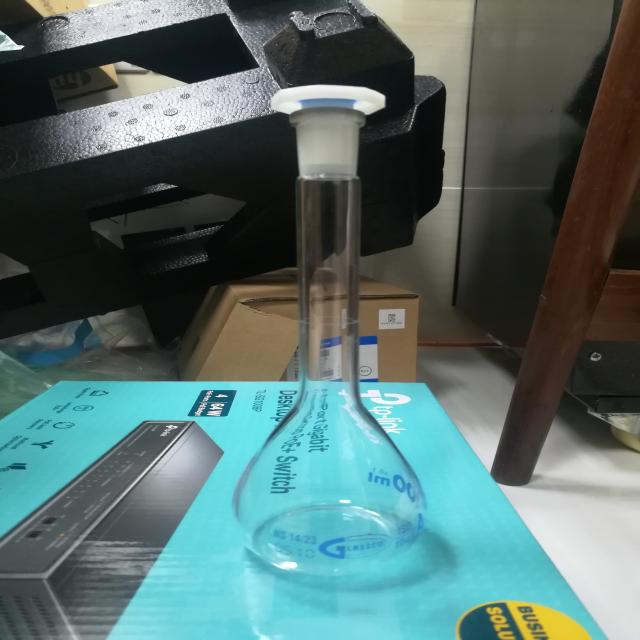Volumetric_Flask: (207, 54, 469, 600)
